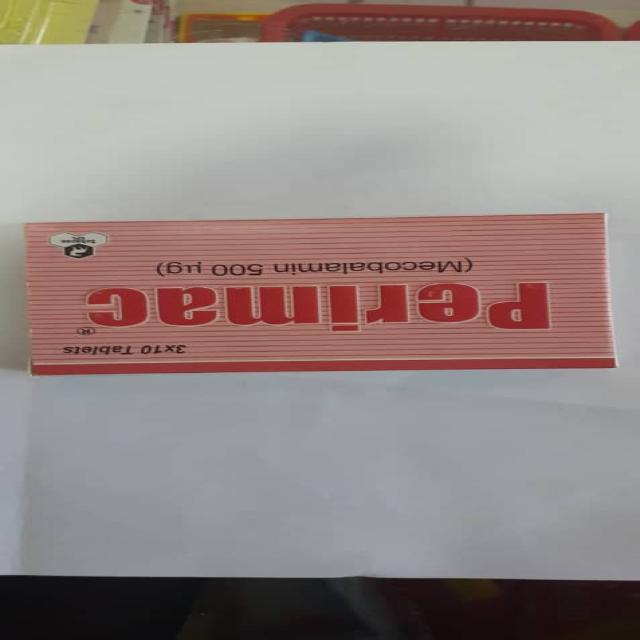drug-name: (88, 278, 556, 332)
